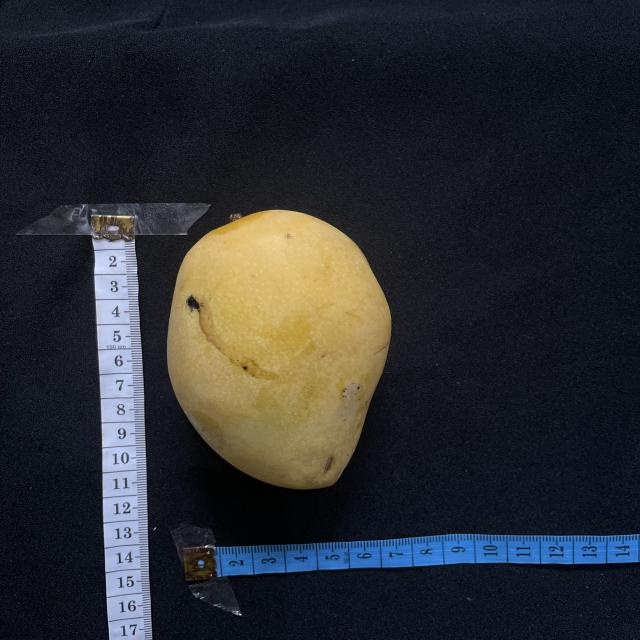Ripe: (167, 210, 391, 489)
